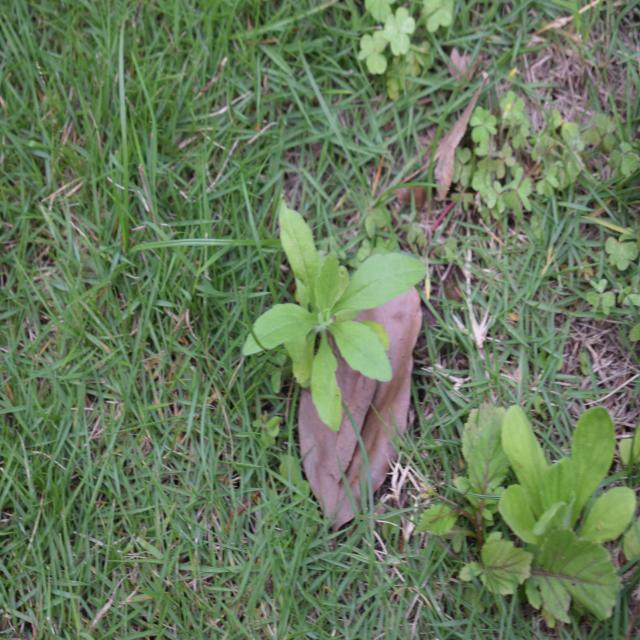horseweed: (246, 212, 420, 422)
